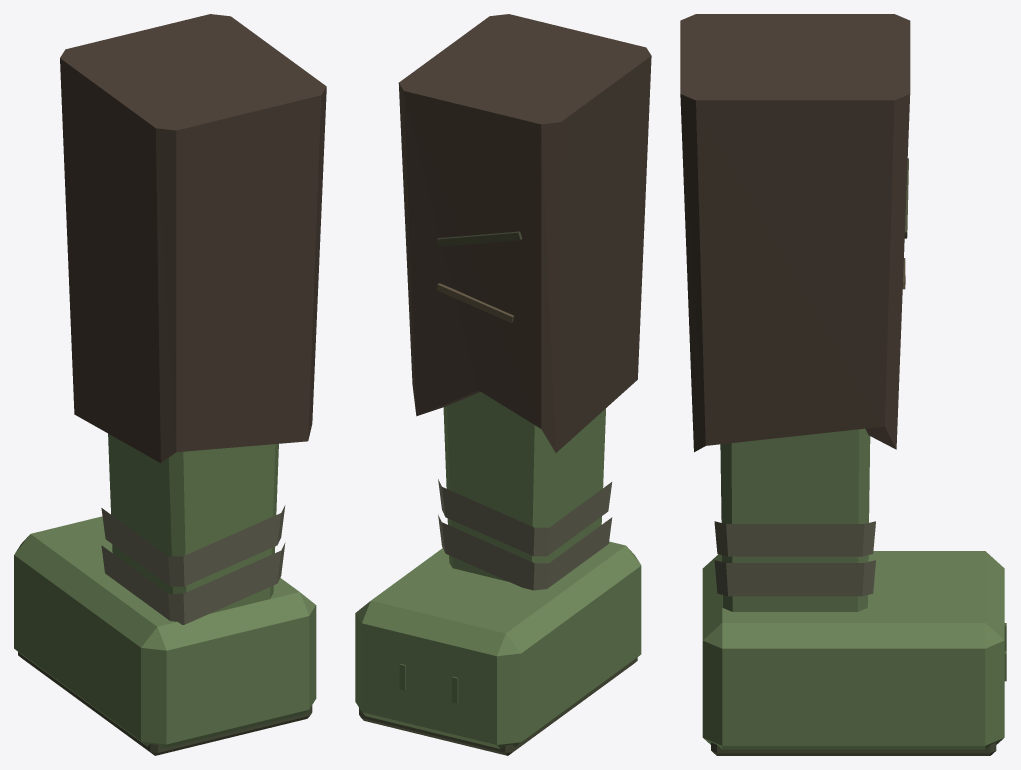
The model's file is LegLeft.glb.
3 views of the same model, side by side, from view 1: azimuth 30°, elevation 25°; view 2: azimuth 150°, elevation 25°; view 3: azimuth 270°, elevation 25° (orthographic). The views are drawn at different scales.
Visible parts, largest first — view 1: Sculpture; view 2: Sculpture; view 3: Sculpture.
Part boxes in pixels (x1,y1,x2,y2): Sculpture: [14, 14, 326, 755]; Sculpture: [355, 14, 651, 755]; Sculpture: [680, 14, 1006, 755].
Bounding box in the file's own units: 0.215 × 0.75 × 0.335.
